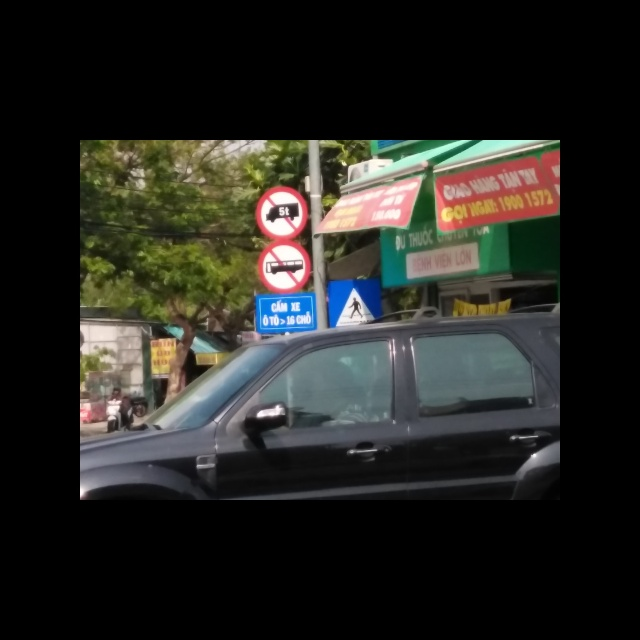Cấm xe tải: (256, 186, 310, 239)
Cấm xe xe khách: (257, 238, 312, 293)
Đường dành cho người đi bộ: (328, 279, 379, 321)
